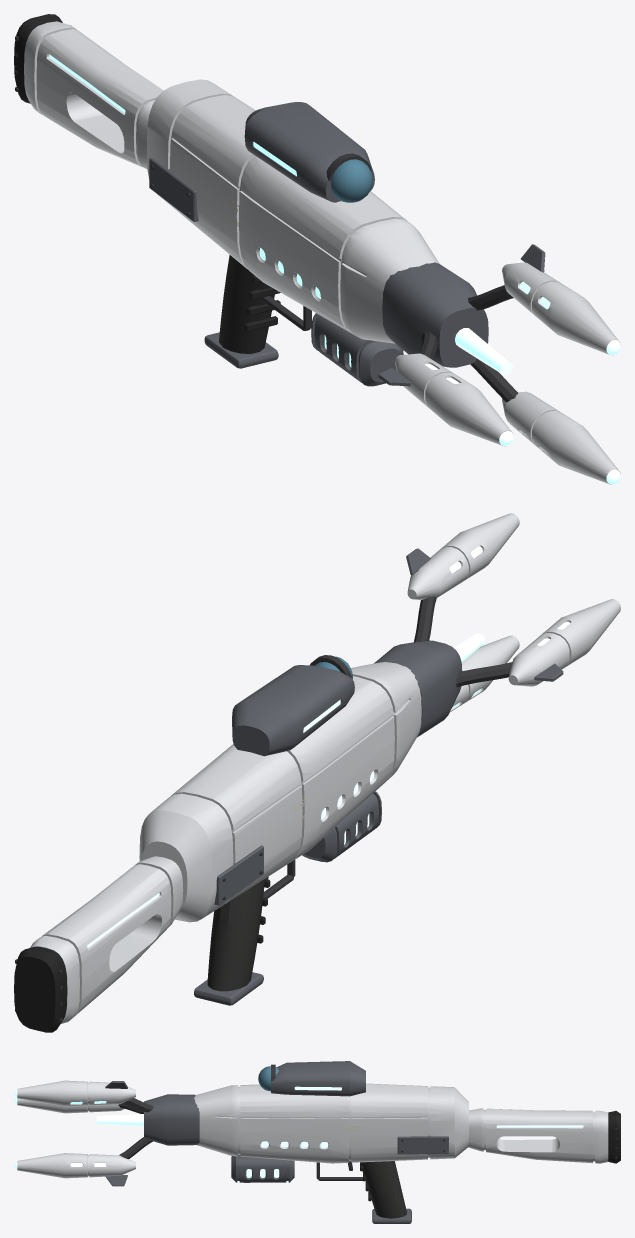
The model's file is geist.glb.
3 renders of one model, top to bottom at view 1: azimuth 30°, elevation 25°; view 2: azimuth 150°, elevation 25°; view 3: azimuth 270°, elevation 25°, orthographic. The views are drawn at different scales.
Parts seen in each view (by area): view 1: Body; view 2: Body; view 3: Body.
Boxes of the visible parts, box(x1,y1,x2,y2) form: Body: box(14, 14, 620, 484); Body: box(14, 513, 620, 1032); Body: box(14, 1061, 620, 1223).
Bounding box in the file's own units: 0.1292 × 0.2136 × 0.7662.
